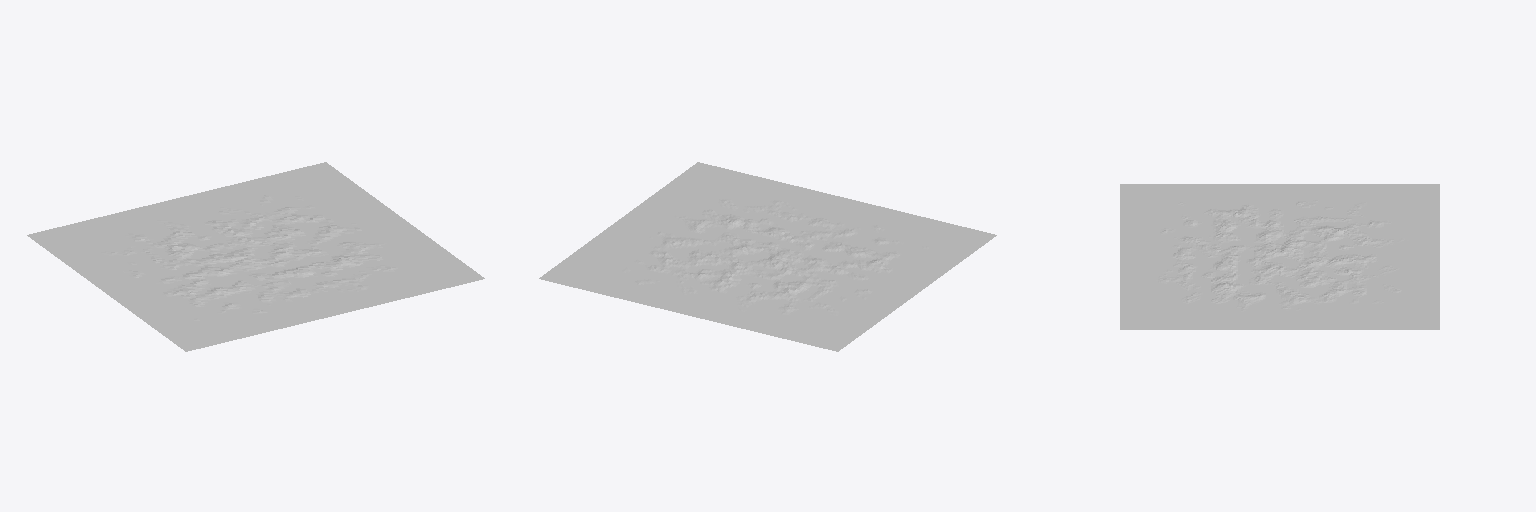
The model's file is floorENV.obj.
3 renders of one model, left to right at view 1: azimuth 30°, elevation 25°; view 2: azimuth 150°, elevation 25°; view 3: azimuth 270°, elevation 25°, orthographic.
Visible parts, largest first — view 1: Landscape; view 2: Landscape; view 3: Landscape.
Boxes of the visible parts, x1,y1,x2,y2 form: Landscape: [27, 162, 484, 351]; Landscape: [539, 162, 996, 351]; Landscape: [1120, 184, 1439, 329].
Size of the model in its own units: 167 by 1.08 by 154.